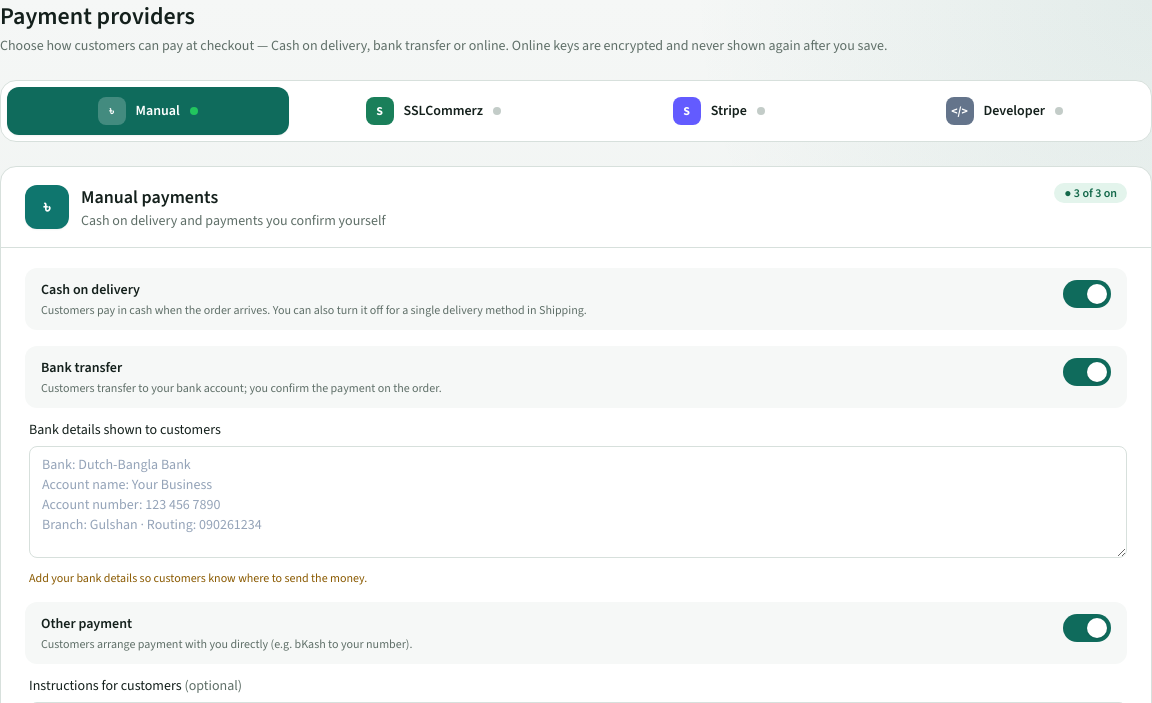
Test: Payment providers settings › never lets every way to pay be switched off
The image size is (1152, 703).
Click the 1st switch named "Cash on delivery": (1087, 294) [1063,280,1111,308]
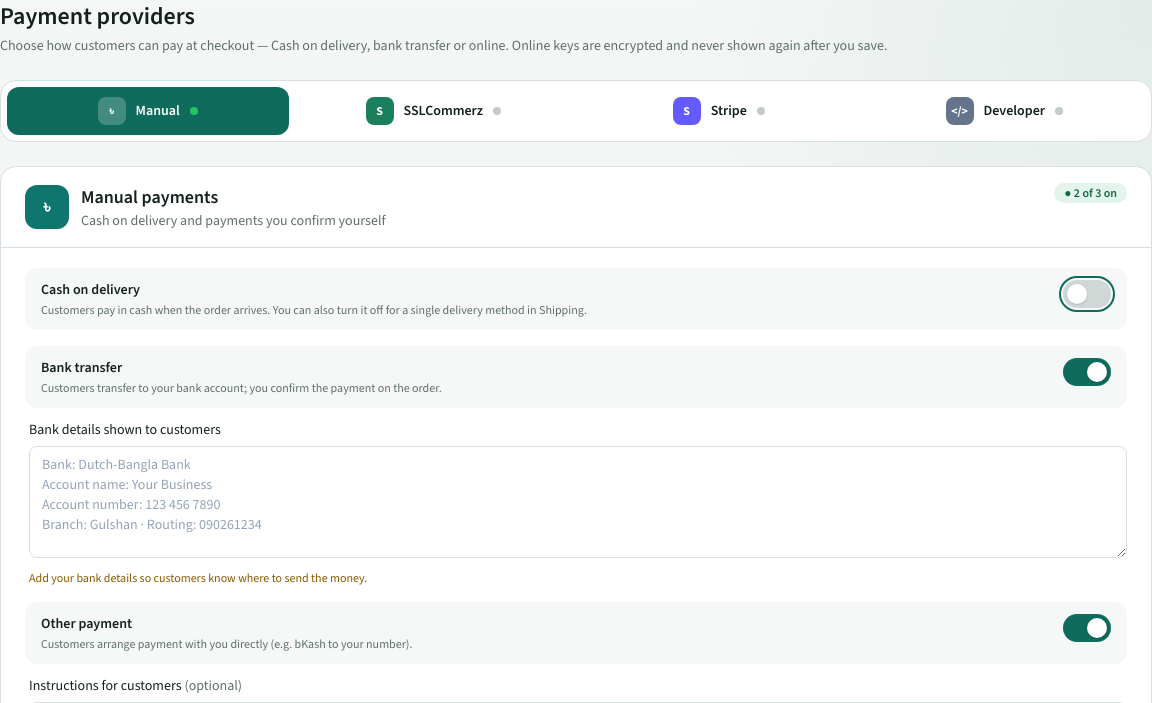
Click the 2nd switch named "Bank transfer": (1087, 372) [1063,358,1111,386]
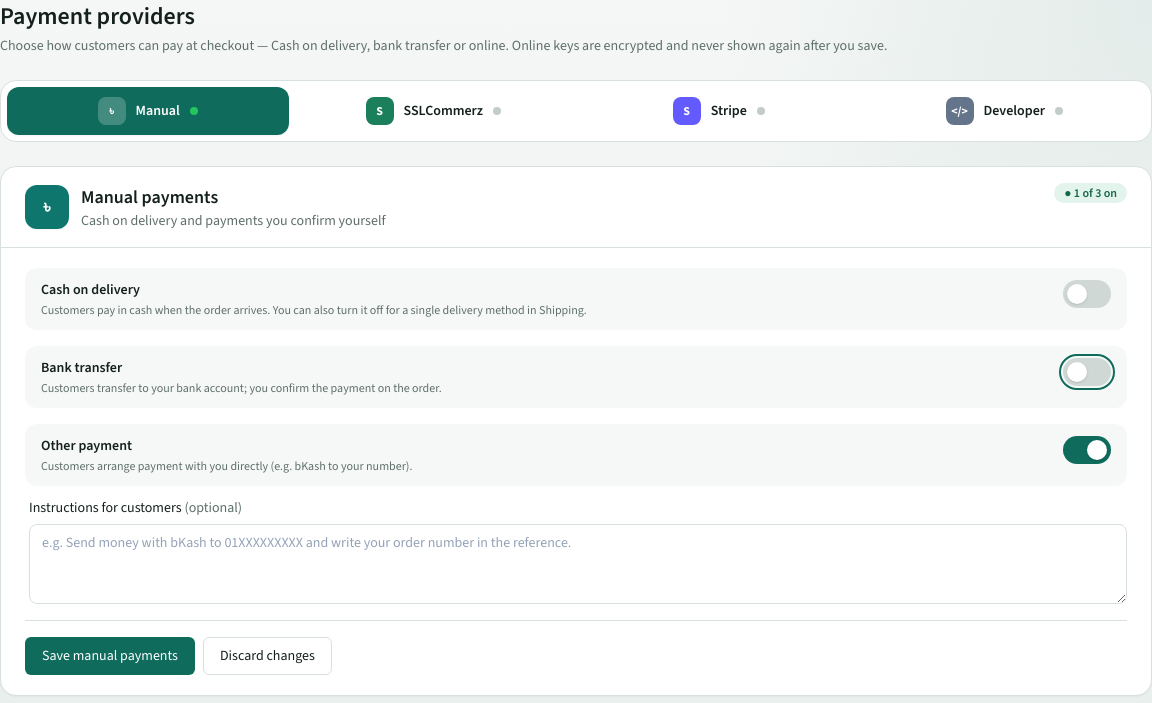
Click the switch named "Other payment" in the row of "Other payment": (1087, 450) [1063,436,1111,464]
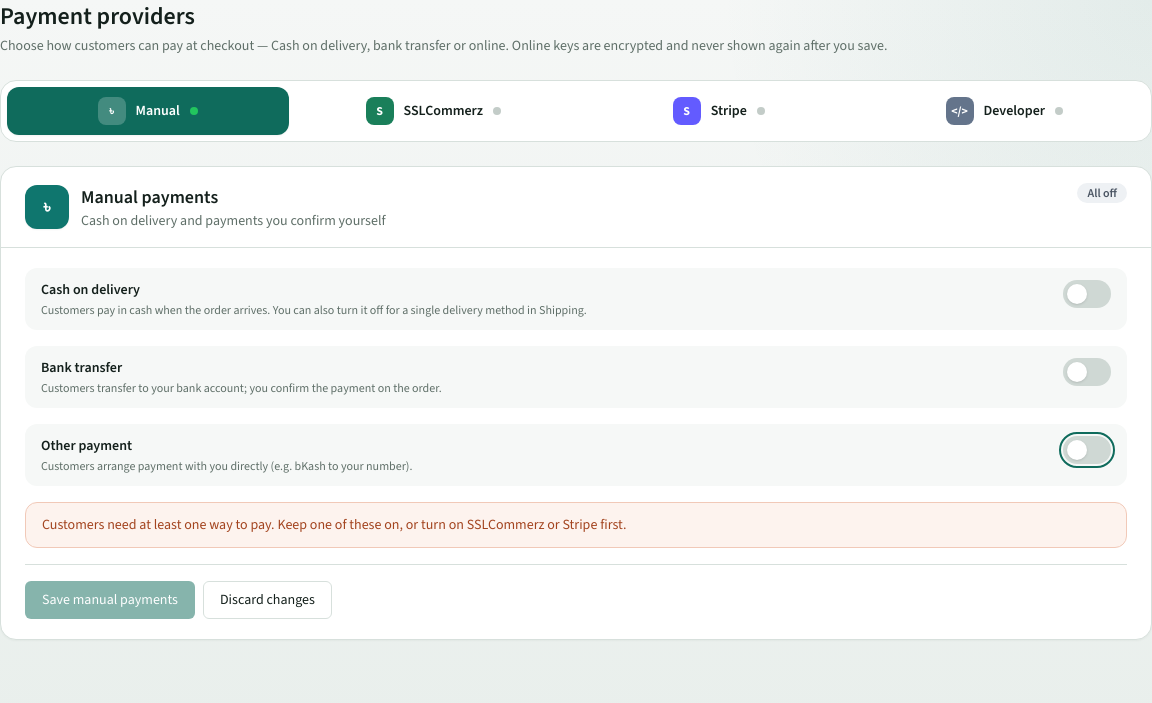
Result: the message shows "Customers need at least one way to pay" at [42,515,626,534]
Result: the button "Save manual payments" is disabled at [25,581,195,619]
